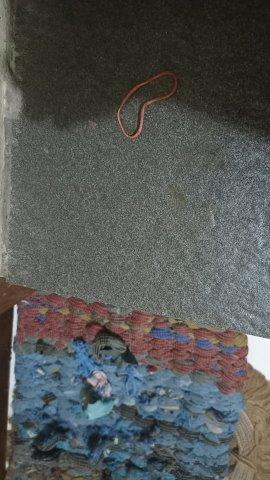karet: (117, 71, 179, 139)
